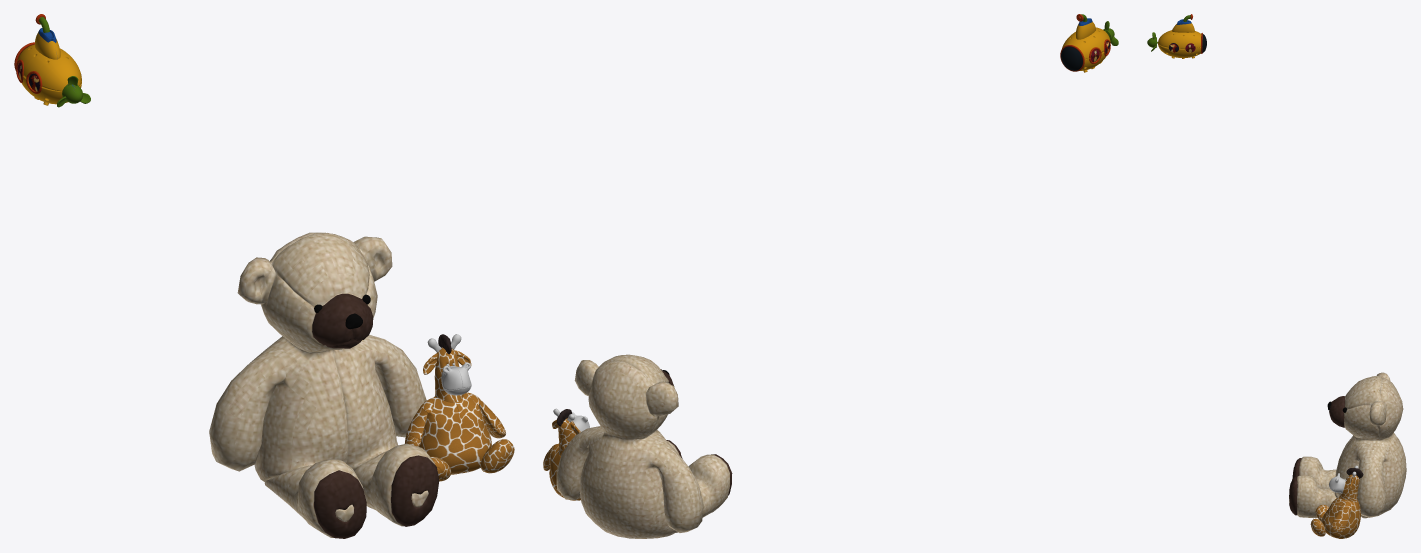
The model's file is m_toy.FBX.
3 renders of one model, left to right at view 1: azimuth 30°, elevation 25°; view 2: azimuth 150°, elevation 25°; view 3: azimuth 270°, elevation 25°, orthographic. The views are drawn at different scales.
Visible parts, largest first — view 1: bear, deer, submarine; view 2: bear, submarine, deer; view 3: bear, deer, submarine.
Boxes of the visible parts, <box> form: bear: <box>209,232,439,538</box>; deer: <box>404,334,514,481</box>; submarine: <box>14,14,90,107</box>; bear: <box>556,354,732,538</box>; submarine: <box>1060,14,1118,72</box>; deer: <box>543,408,589,500</box>; bear: <box>1289,372,1406,518</box>; deer: <box>1310,465,1363,538</box>; submarine: <box>1147,14,1206,58</box>.
Bounding box in the file's own units: 205 × 221 × 137.
